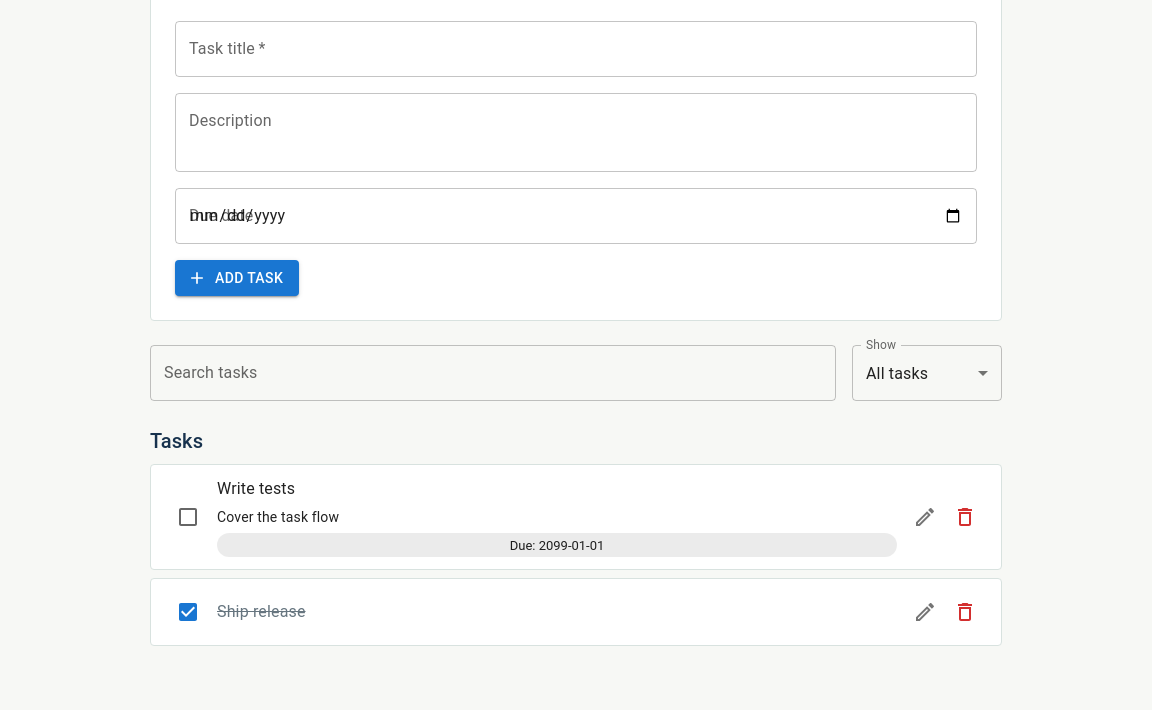
Test case: Task app › confirms and deletes a task
(page scrolled)
Expected: the text "Write tests" is shown, [217, 479, 295, 498]
Click the button named "Delete Write tests": (965, 517) [945, 497, 985, 537]
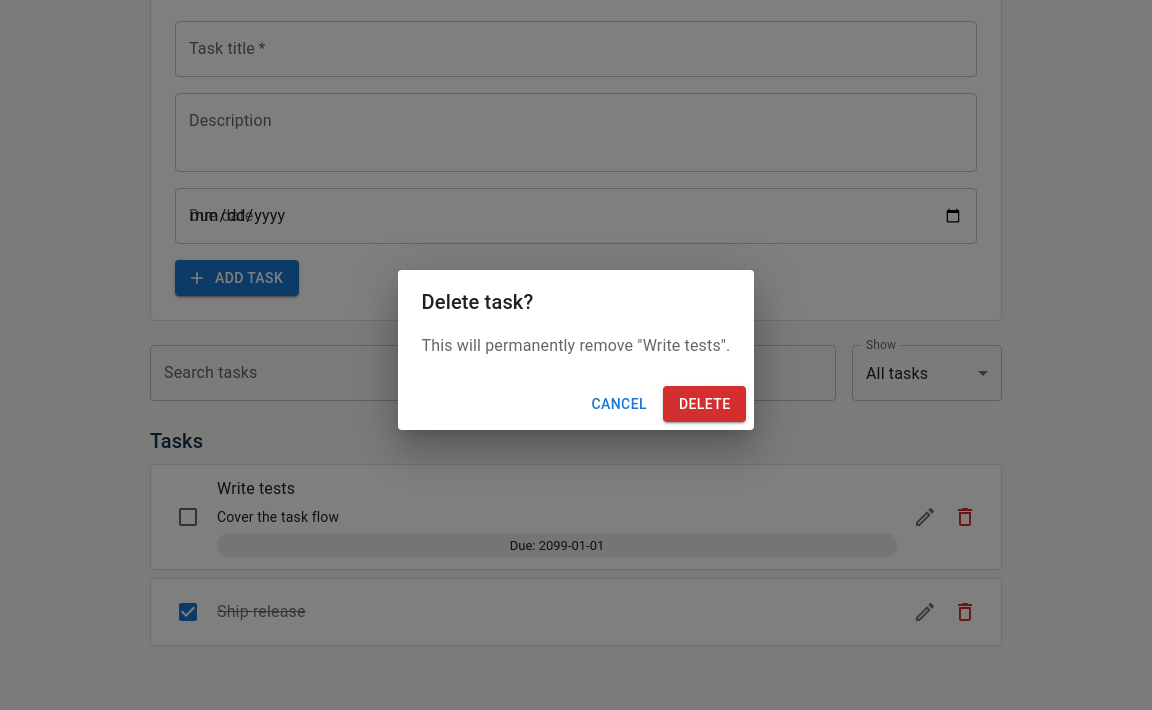
Now the dialog is shown, box [398, 270, 754, 430]
Click the button "Delete": (705, 404) [663, 386, 746, 422]
(page scrolled)
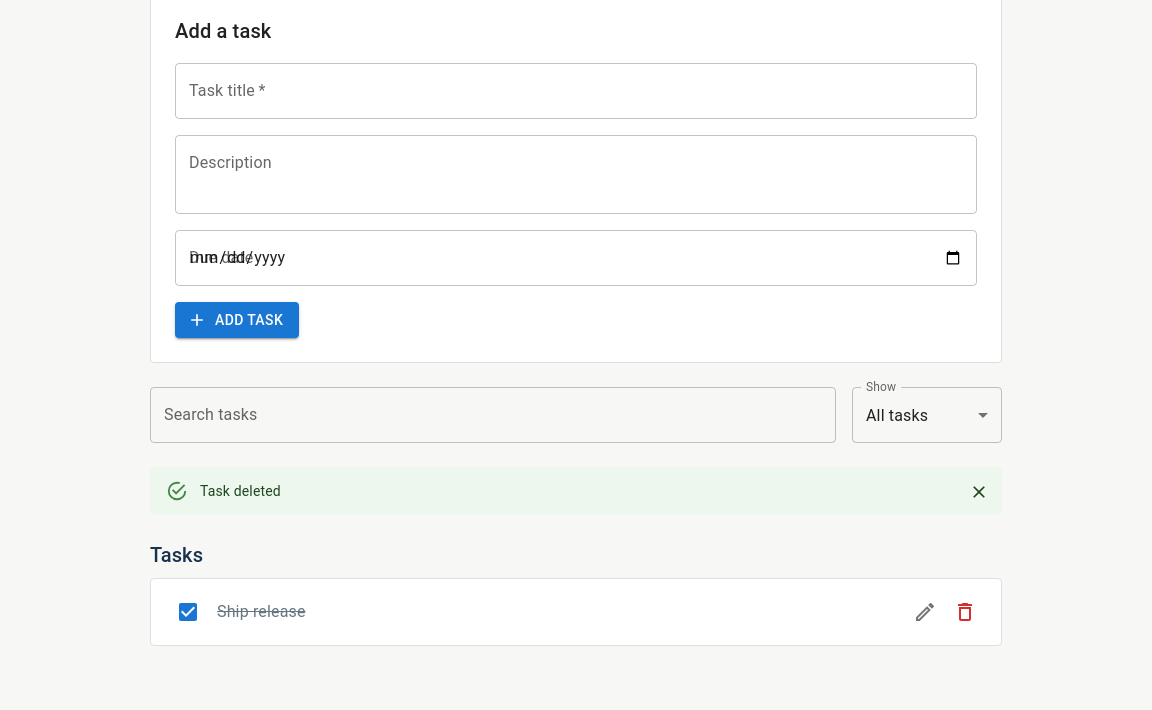
Now the text "Write tests" is gone
